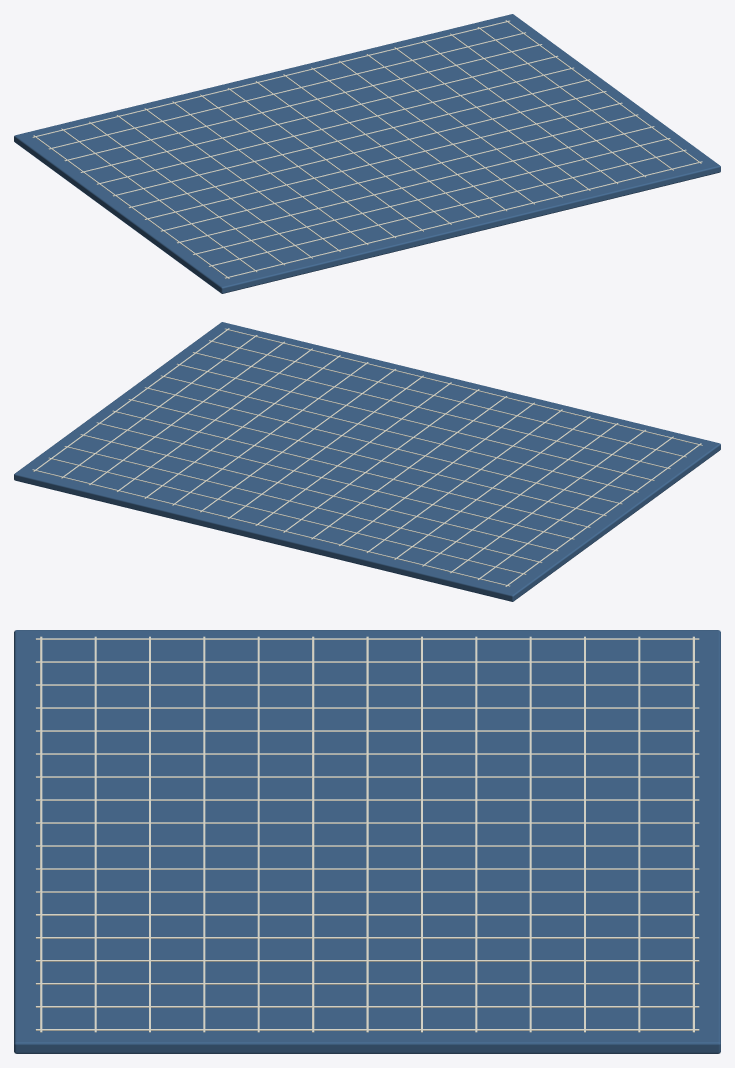
Rendered from textile-weaving-and-dye-workshop-cutting-mat-c026849b__29555.glb.
3 renders of one model, top to bottom at view 1: azimuth 30°, elevation 25°; view 2: azimuth 150°, elevation 25°; view 3: azimuth 270°, elevation 25°, orthographic. The views are drawn at different scales.
Parts seen in each view (by area): view 1: cutting-mat; view 2: cutting-mat; view 3: cutting-mat.
Boxes of the visible parts, <box> form: cutting-mat: <box>14,14,720,293</box>; cutting-mat: <box>14,322,720,601</box>; cutting-mat: <box>14,630,720,1053</box>.
Bounding box in the file's own units: 0.9 × 0.014 × 0.65.
